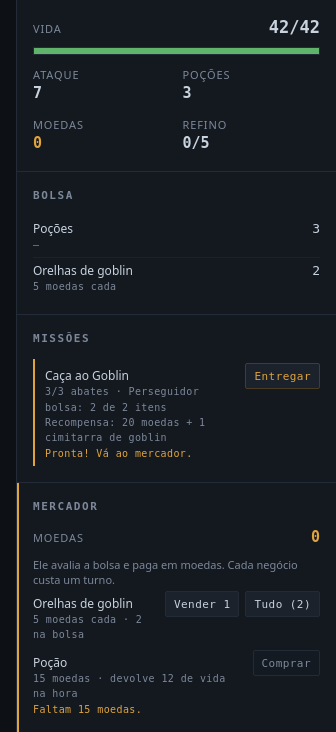
it: UI — smoke da casca React (§7.4) › clicar em Entregar despacha o comando e a missão passa a entregue
(page scrolled)
Click the button with id "entregar-abate-chaser".
click(283, 376)  # box [246,363,320,389]
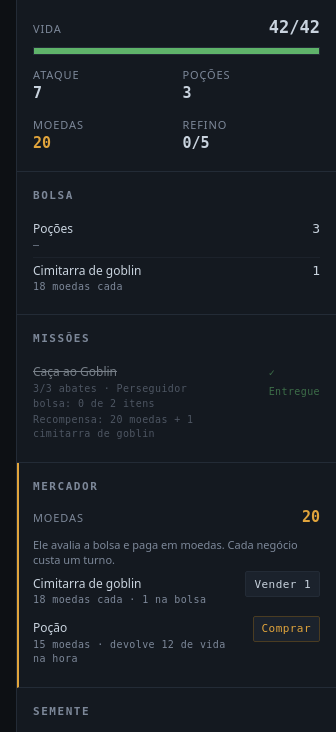
Now the text with id "missao-selo-abate-chaser" reads "✓ Entregue", box [269,367,320,397]
Now the button with id "entregar-abate-chaser" is gone
Now the text with id "missao-aviso-abate-chaser" is gone
